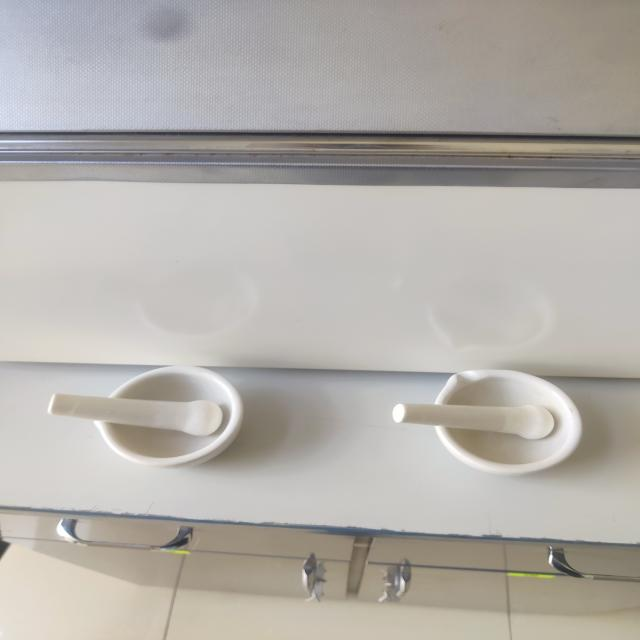Porcelain_Mortar Pestle: (376, 333, 604, 496), (35, 344, 273, 490)
